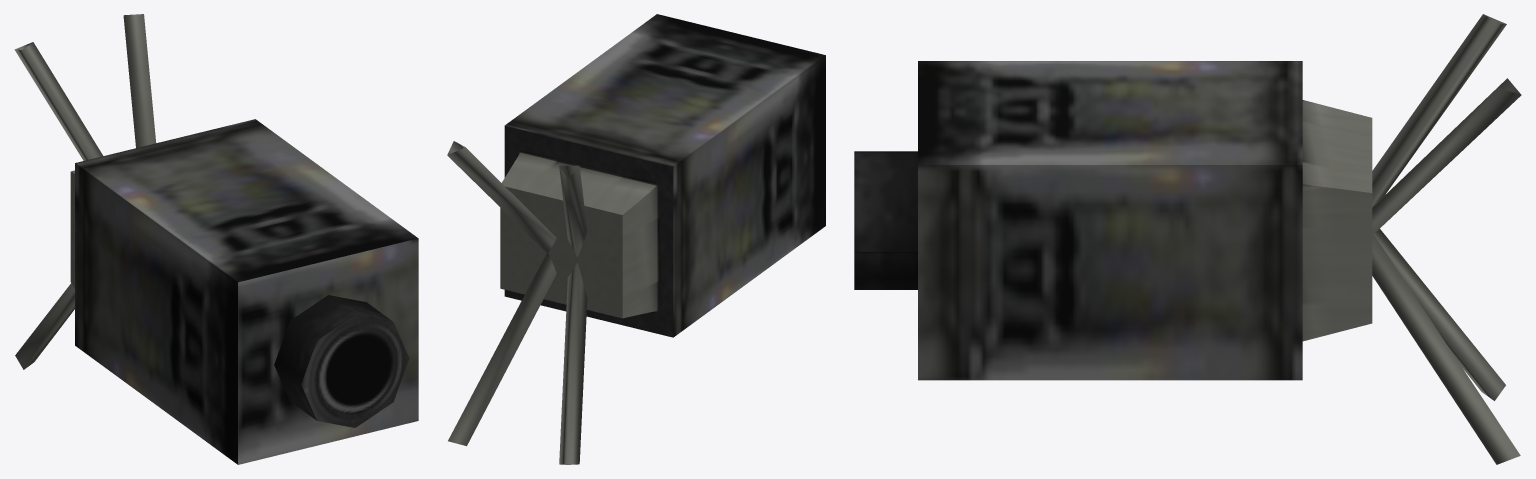
The model's file is camera.DAE.
3 renders of one model, left to right at view 1: azimuth 30°, elevation 25°; view 2: azimuth 150°, elevation 25°; view 3: azimuth 270°, elevation 25°, orthographic. The views are drawn at different scales.
Visible parts, largest first — view 1: Box01-Pivot, Line02; view 2: Box01-Pivot, Line02; view 3: Box01-Pivot, Line02.
Boxes of the visible parts, x1,y1,x2,y2 form: Box01-Pivot: [70, 119, 418, 464]; Line02: [14, 14, 156, 369]; Box01-Pivot: [500, 14, 825, 337]; Line02: [447, 141, 587, 464]; Box01-Pivot: [854, 61, 1372, 380]; Line02: [1372, 14, 1521, 464].
Size of what is drawn, in the model's own units: 0.1204 by 0.204 by 0.3268.
